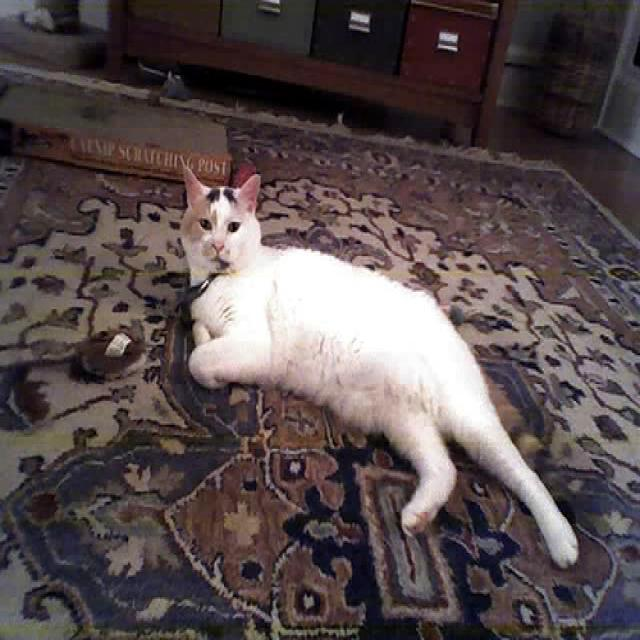left eye: (225, 217, 242, 234)
